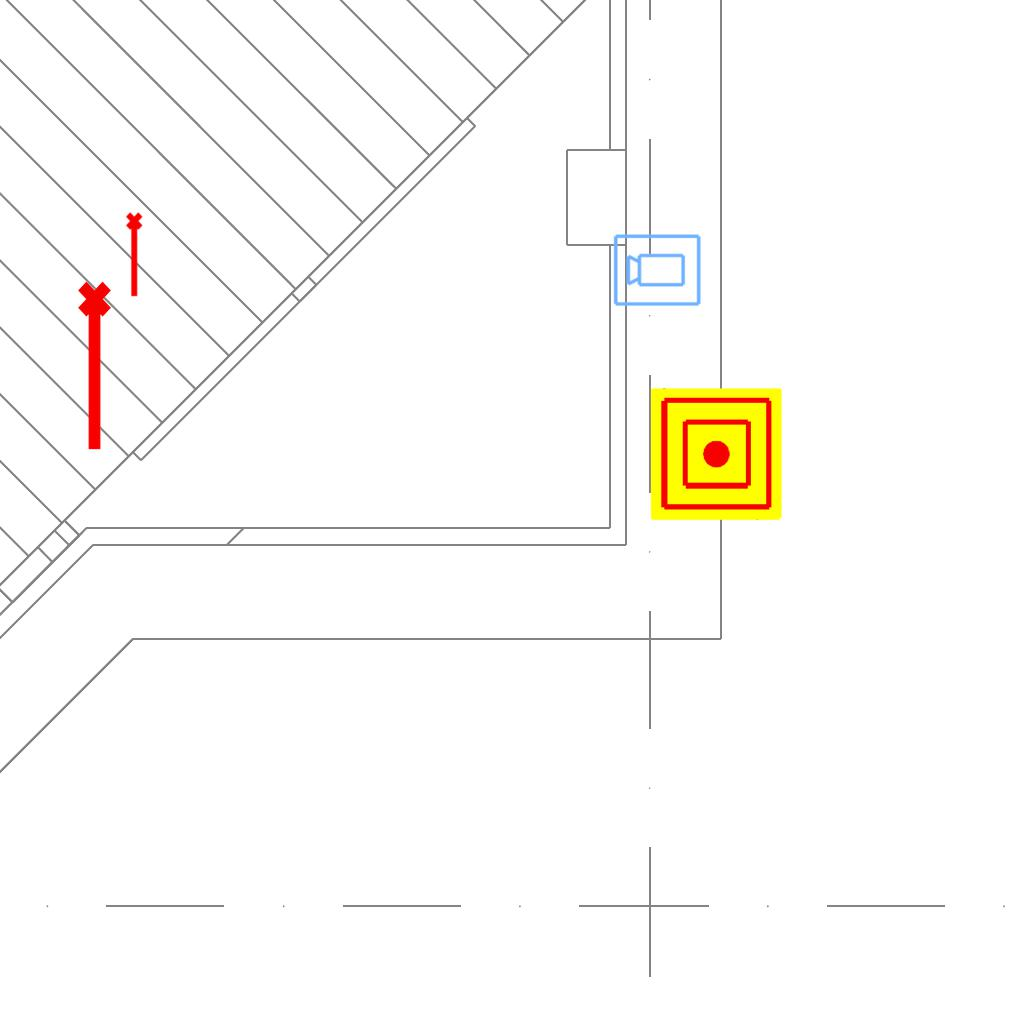ASR_Ansaugoeffnung: (74, 279, 120, 455), (124, 211, 147, 299)
KFO_Kamera_mit_Festobjektiv: (612, 231, 703, 308)
NAM-Nichtautomatischer_Melder: (650, 388, 782, 520)
